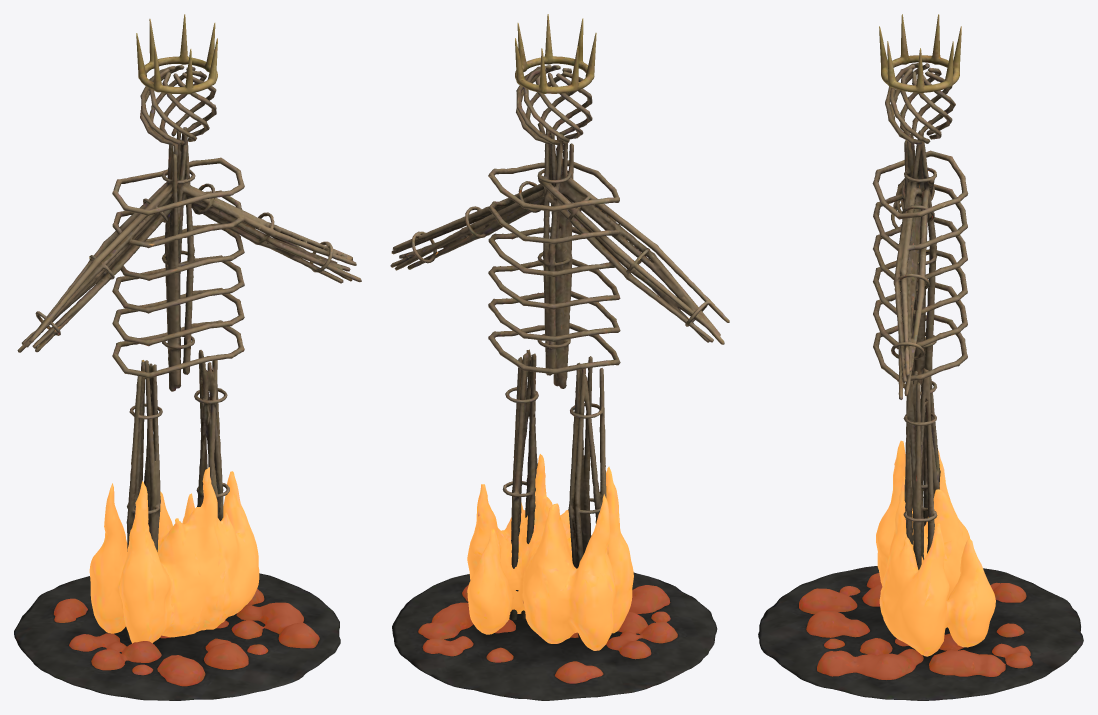
The model's file is wicker_effigy.glb.
The picture shows the model from 3 angles, left to right: view 1: azimuth 30°, elevation 25°; view 2: azimuth 150°, elevation 25°; view 3: azimuth 270°, elevation 25°; orthographic projection.
Visible parts, largest first — view 1: Wicker_Effigy, Effigy_Fire, Effigy_Ash, Effigy_Coals, Effigy_Crown; view 2: Wicker_Effigy, Effigy_Fire, Effigy_Ash, Effigy_Coals, Effigy_Crown; view 3: Wicker_Effigy, Effigy_Ash, Effigy_Fire, Effigy_Coals, Effigy_Crown.
Part boxes in pixels (bbox=[...]): Wicker_Effigy: bbox=[17, 65, 361, 639]; Effigy_Fire: bbox=[89, 467, 259, 643]; Effigy_Ash: bbox=[14, 573, 340, 700]; Effigy_Coals: bbox=[54, 588, 319, 686]; Effigy_Crown: bbox=[136, 14, 217, 94]; Wicker_Effigy: bbox=[390, 65, 729, 638]; Effigy_Fire: bbox=[467, 454, 633, 650]; Effigy_Ash: bbox=[392, 572, 717, 700]; Effigy_Coals: bbox=[418, 584, 677, 683]; Effigy_Crown: bbox=[515, 14, 596, 93]; Wicker_Effigy: bbox=[872, 63, 968, 569]; Effigy_Ash: bbox=[758, 566, 1083, 700]; Effigy_Fire: bbox=[876, 440, 995, 656]; Effigy_Coals: bbox=[799, 573, 1032, 679]; Effigy_Crown: bbox=[879, 14, 961, 93].
Bounding box in the file's own units: 1.31 × 2.27 × 1.09.
Materials: 1 (1 with a texture image).
